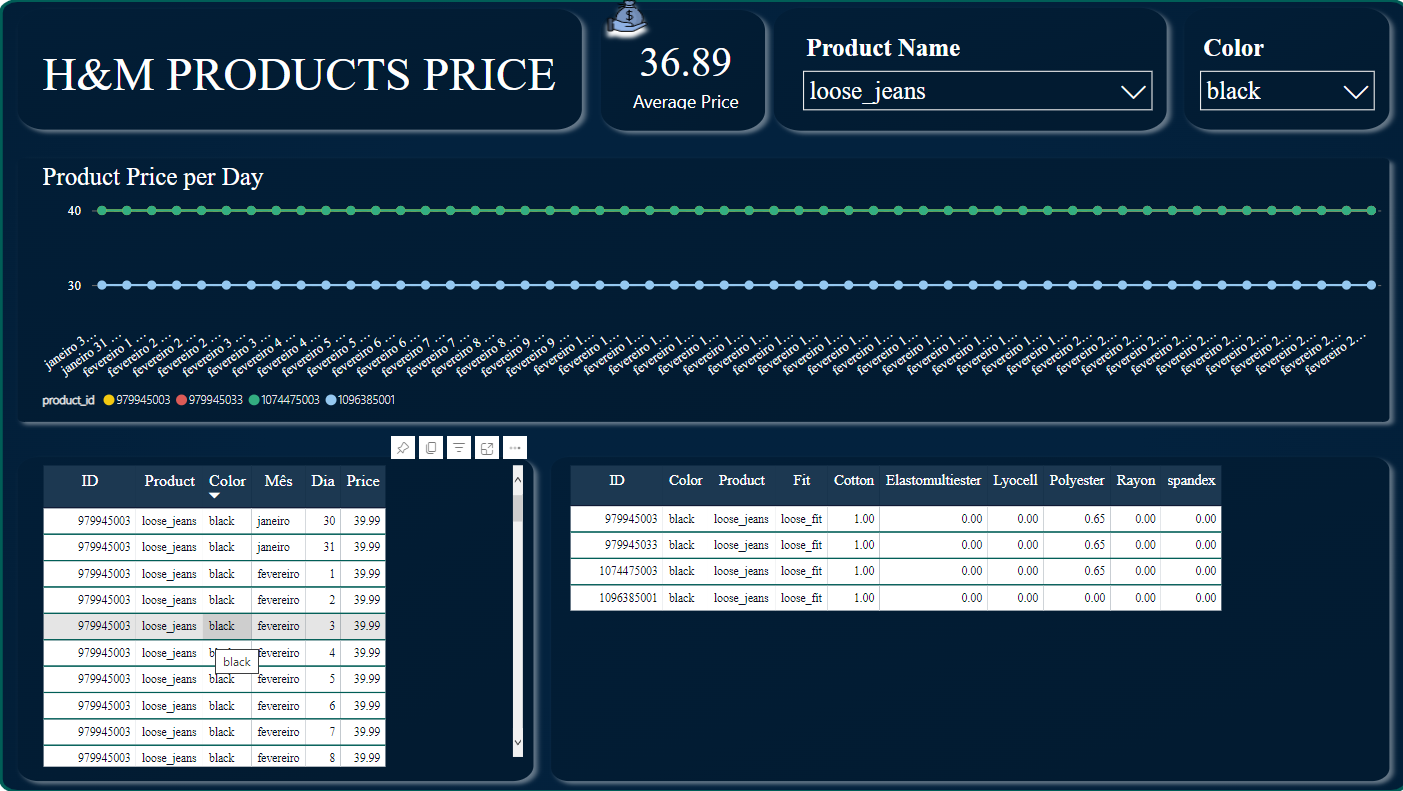

The page's visual inventory and layout, read from the dashboard file:
{"tool":"powerbi","page":{"name":"hm_dashboard","canvas":[1280,720],"ordinal":0},"visuals":[{"type":"tableEx","fields":{"Values":["vitrine_hm.product_id","vitrine_hm.product_name","vitrine_hm.product_type","vitrine_hm.scrap_datetime.Variation.Hierarquia de datas.Mês","vitrine_hm.scrap_datetime.Variation.Hierarquia de datas.Dia","Avg(vitrine_hm.price)"]},"box":[33.3,418.4,447.1,283.9],"z":0},{"type":"lineChart","title":"Product Price per Day","fields":{"Category":["vitrine_hm.scrap_datetime.Variation.Hierarquia de datas.Mês","vitrine_hm.scrap_datetime.Variation.Hierarquia de datas.Dia","vitrine_hm.time"],"Y":["Avg(vitrine_hm.price)"],"Series":["vitrine_hm.product_id"]},"box":[33.3,148.3,1227.6,233.3],"z":1000},{"type":"slicer","title":"Product Name","fields":{"Values":["vitrine_hm.product_name"]},"box":[720.7,26.4,337.9,78.2],"z":2000},{"type":"tableEx","fields":{"Values":["vitrine_hm.product_id","vitrine_hm.color_name","vitrine_hm.product_name","vitrine_hm.fit","vitrine_hm.cotton","vitrine_hm.elastomultiester","vitrine_hm.lyocell","vitrine_hm.polyester","vitrine_hm.rayon","vitrine_hm.spandex"]},"box":[512.6,418.4,748.3,283.9],"z":3000},{"type":"textbox","box":[33.3,37.9,495.4,66.7],"z":5000},{"type":"card","fields":{"Values":["Avg(vitrine_hm.price)"]},"box":[526.4,26.4,194.3,78.2],"z":6000},{"type":"slicer","fields":{"Values":["vitrine_hm.scrap_datetime"]},"box":[1087.5,21.7,173.4,85.4],"z":6001}]}

Visuals, with their boxes in screenshot pixels (x1, y1, x2, y2), scaled from the page's 1280x720 canvas onto the 1403x791 screenshot:
tableEx - vitrine_hm.product_id x vitrine_hm.product_name: [36, 460, 527, 772]
"Product Price per Day" lineChart: [36, 163, 1382, 419]
"Product Name" slicer: [790, 29, 1160, 115]
tableEx - vitrine_hm.product_id x vitrine_hm.color_name: [562, 460, 1382, 772]
textbox: [36, 42, 580, 115]
card - Avg(vitrine_hm.price): [577, 29, 790, 115]
slicer - vitrine_hm.scrap_datetime: [1192, 24, 1382, 118]
